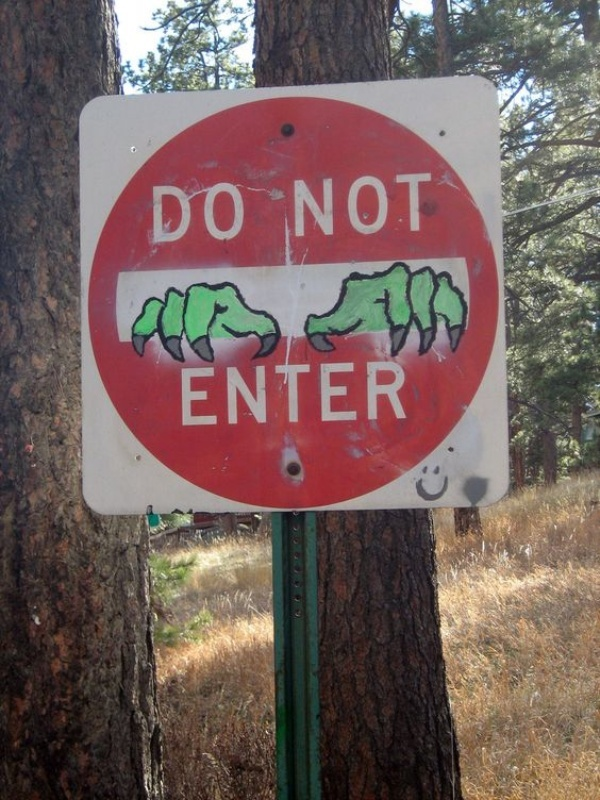text: (193, 360, 208, 426), (209, 360, 224, 426), (225, 360, 240, 426), (241, 360, 256, 426), (257, 360, 272, 426), (273, 360, 288, 426), (289, 360, 304, 426), (305, 360, 320, 426), (321, 360, 336, 426), (337, 360, 352, 426), (353, 360, 368, 426), (369, 360, 384, 426), (385, 360, 400, 426), (305, 173, 320, 237), (321, 173, 336, 237), (337, 173, 352, 237), (353, 173, 368, 237), (369, 173, 384, 237), (385, 173, 400, 237), (401, 173, 416, 237), (417, 173, 432, 237), (161, 182, 176, 244), (177, 182, 192, 244), (193, 182, 208, 244), (209, 182, 224, 244), (225, 182, 240, 244), (180, 360, 192, 426), (292, 173, 304, 237), (152, 182, 160, 244), (401, 360, 408, 426), (241, 182, 245, 244), (433, 173, 435, 237)
